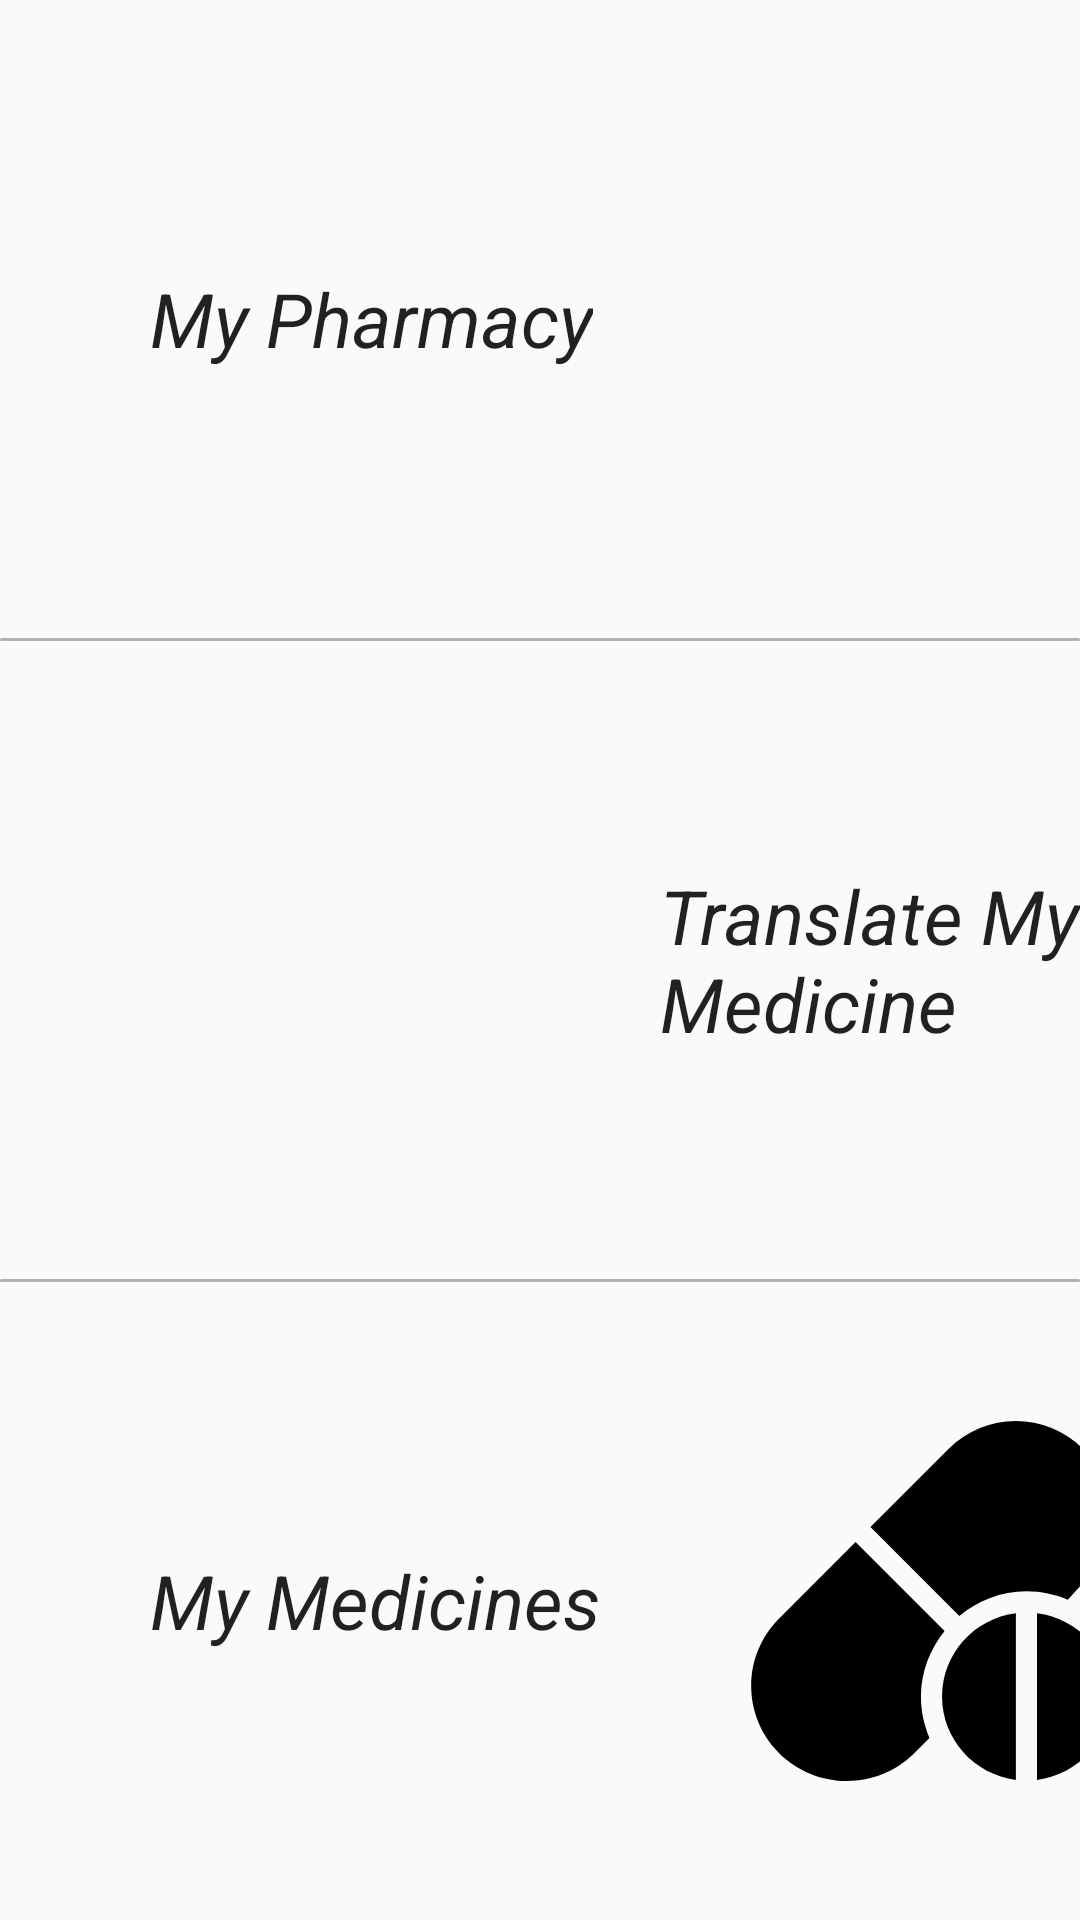

Screen size 1080 x 1920. Icon name, then its center in pixels as point (x, y):
drugs: point (915, 1601)
